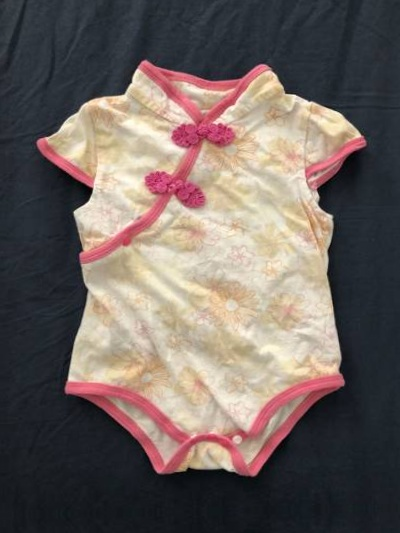Body: (24, 41, 381, 487)
